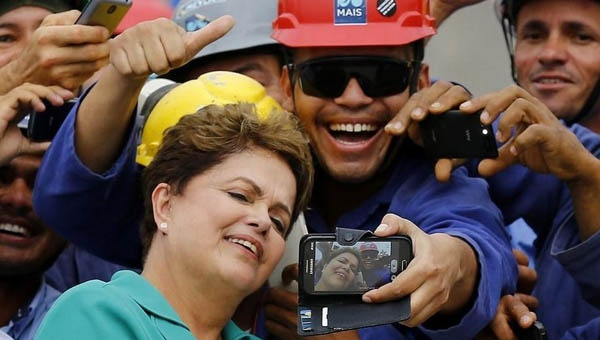none: (143, 111, 307, 295)
red: (272, 4, 428, 178)
